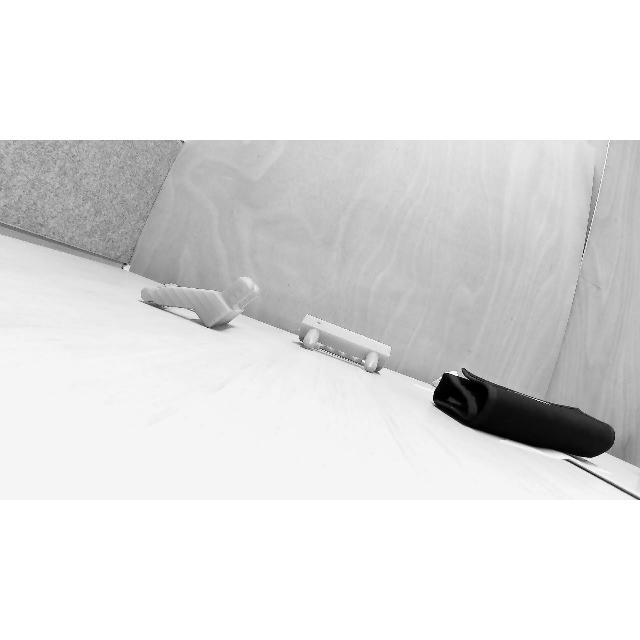targets: (432, 371, 614, 459), (145, 268, 263, 330), (298, 314, 394, 376)
